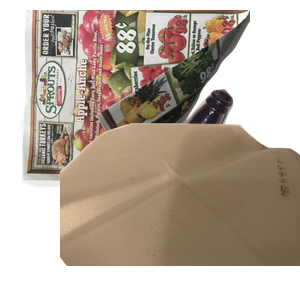glass: (130, 87, 300, 267)
paper: (18, 10, 258, 190)
plastic: (60, 120, 300, 300)
trash: (81, 168, 261, 300)
